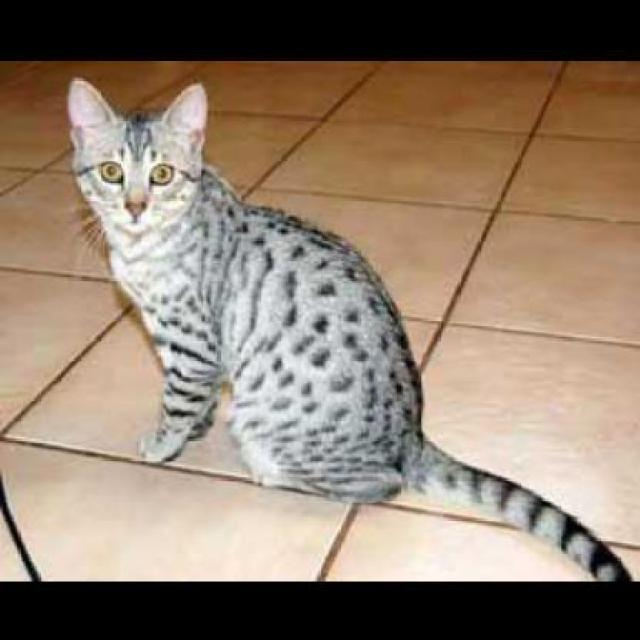unauthorized: (63, 76, 635, 582)
